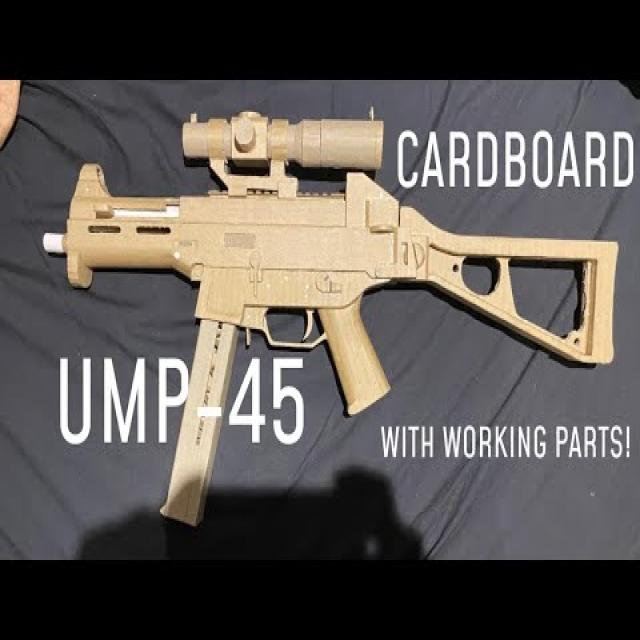Gun: (17, 102, 627, 527)
